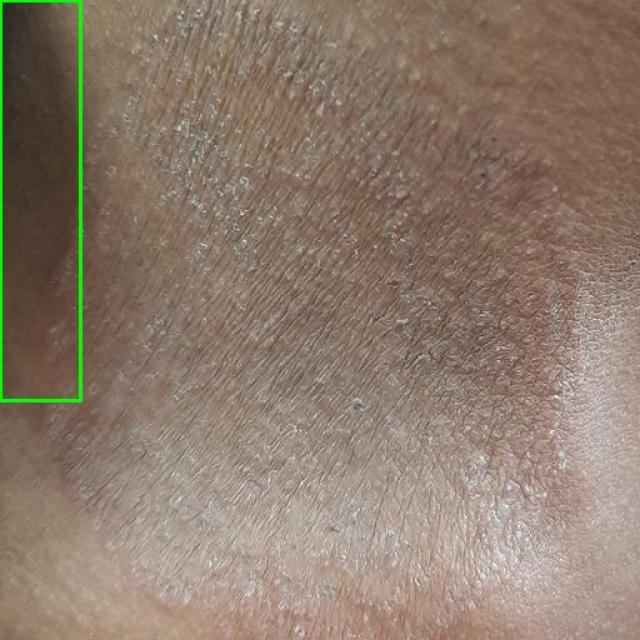Tinea Corporis: (0, 0, 81, 401)
